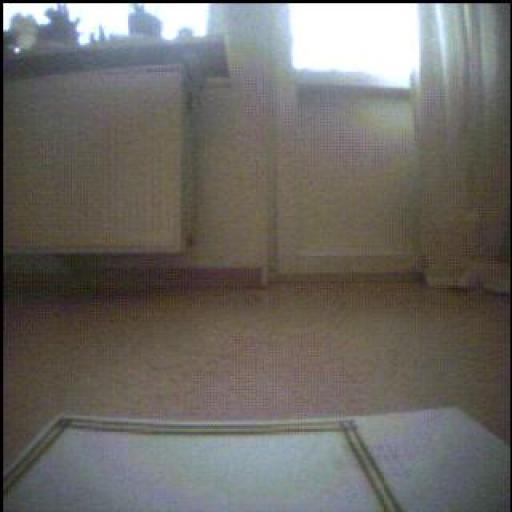Pad: (5, 411, 512, 512)
